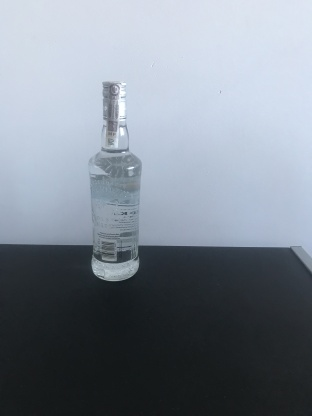nakretka: (99, 76, 129, 124)
